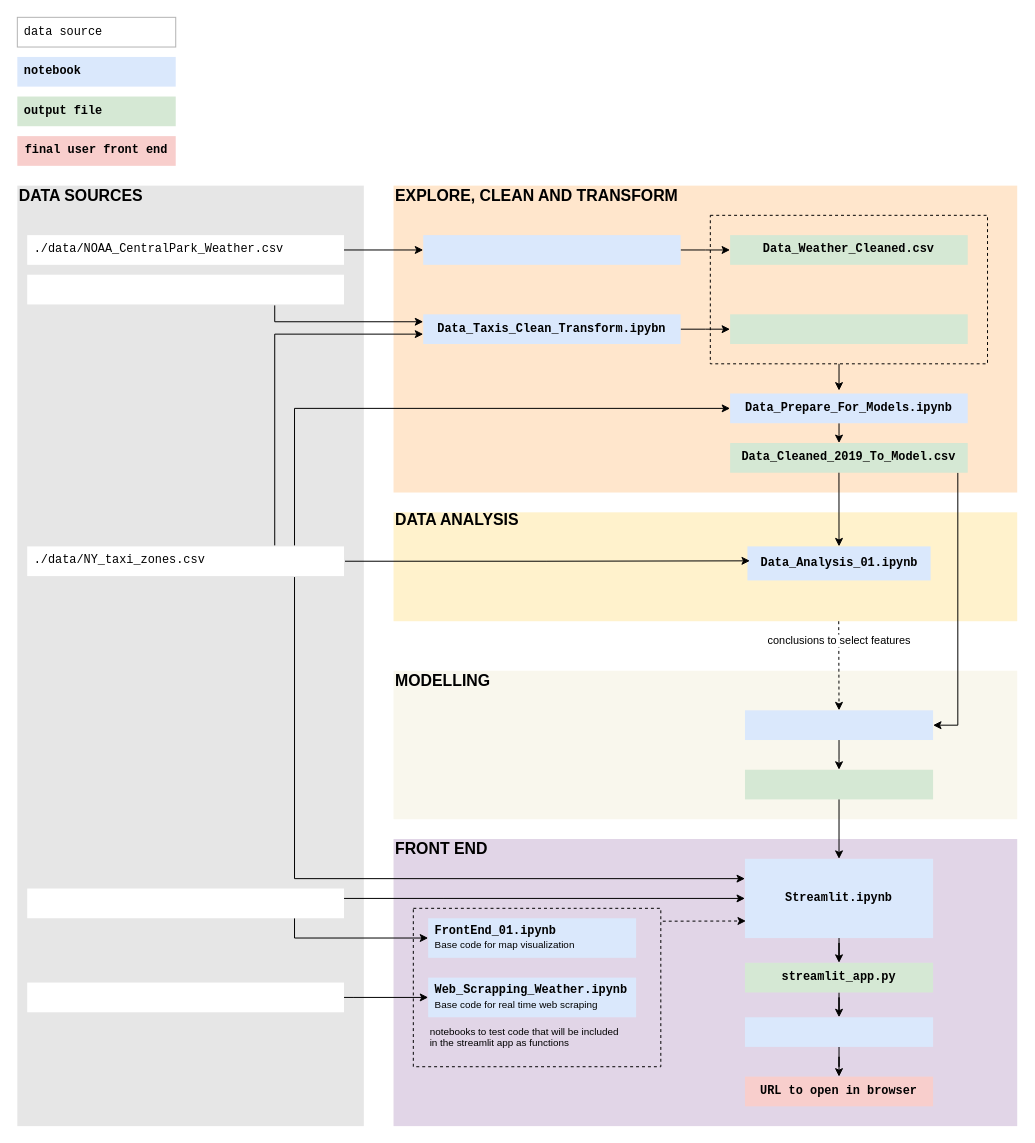
The diagram is 1035 pixels wide and 1143 high, and some of its shapes have lost their labels. Here are the shapes that lost their labels. From the top down, the centre of each, then its label:
At point 551,249: "Data_Weather_Clean_Transform.ipybn".
At point 185,289: "./data/2019_Yellow_Taxi_Trip_Data.csv.bz2".
At point 848,329: "Data_Taxis_2019_Cleaned.csv".
At point 838,725: "Modelling_01.ipynb".
At point 838,784: "model_regGB.pickle".
At point 185,903: "./data/taxi_zones/taxi_zones.shp".
At point 185,997: "www.wunderground.com".
At point 838,1031: "Streamlit_JustRun.ipynb".
